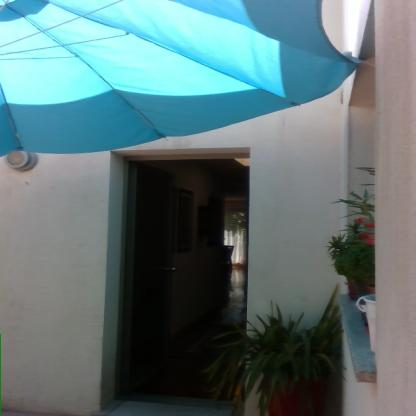open: (96, 147, 258, 415)
